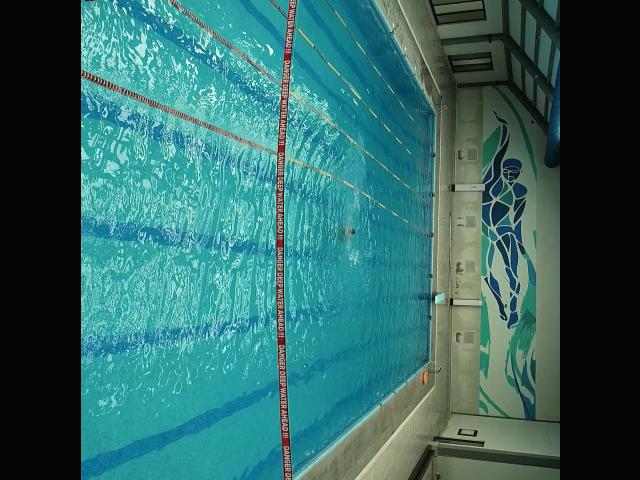drowning: (338, 224, 356, 243)
